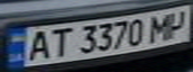0: (127, 16, 151, 46)
3: (75, 22, 100, 54), (93, 20, 115, 52)
7: (112, 18, 133, 50)
A: (21, 28, 54, 62)
M: (145, 11, 175, 43)
P: (160, 7, 193, 39)
T: (42, 25, 75, 58)
